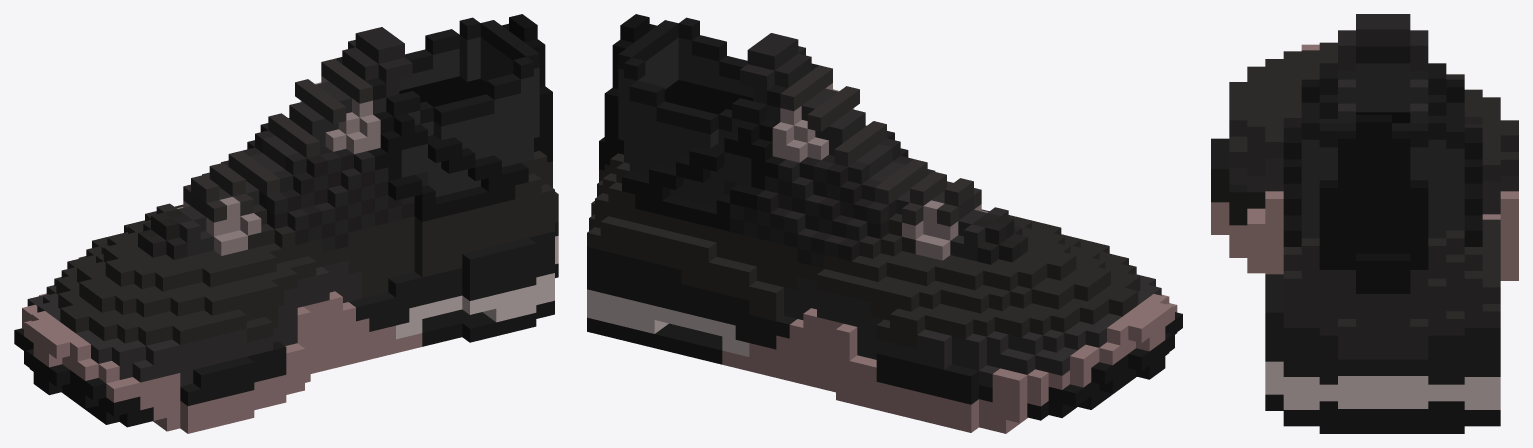
Rendered from Charcoal.fbx.
3 views of the same model, side by side, from view 1: azimuth 30°, elevation 25°; view 2: azimuth 150°, elevation 25°; view 3: azimuth 270°, elevation 25° (orthographic). The views are drawn at different scales.
Visible parts, largest first — view 1: Untitled; view 2: Untitled; view 3: Untitled.
Boxes of the visible parts, x1,y1,x2,y2 form: Untitled: (14,14,558,433); Untitled: (587,14,1182,433); Untitled: (1211,14,1518,433).
Bounding box in the file's own units: 390 × 200 × 170.
